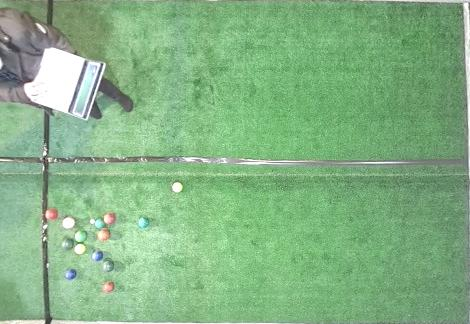blue: (65, 269, 77, 280), (92, 251, 103, 261)
green: (74, 230, 87, 242), (61, 238, 73, 250), (103, 261, 114, 272), (138, 217, 149, 228), (95, 218, 105, 228)
red: (62, 217, 76, 229), (98, 229, 111, 241), (45, 209, 58, 220), (103, 282, 115, 293), (104, 213, 116, 224)
vline: (1, 115, 50, 323), (461, 0, 469, 324), (1, 0, 54, 27)
white: (90, 219, 95, 224)
yellow: (172, 182, 183, 193), (74, 244, 86, 254)
